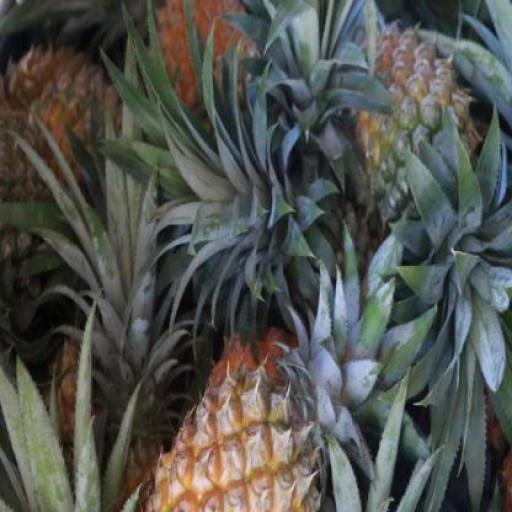------------------------------: (342, 23, 481, 233)
Pineapple - v8 v1: (140, 357, 323, 512)
